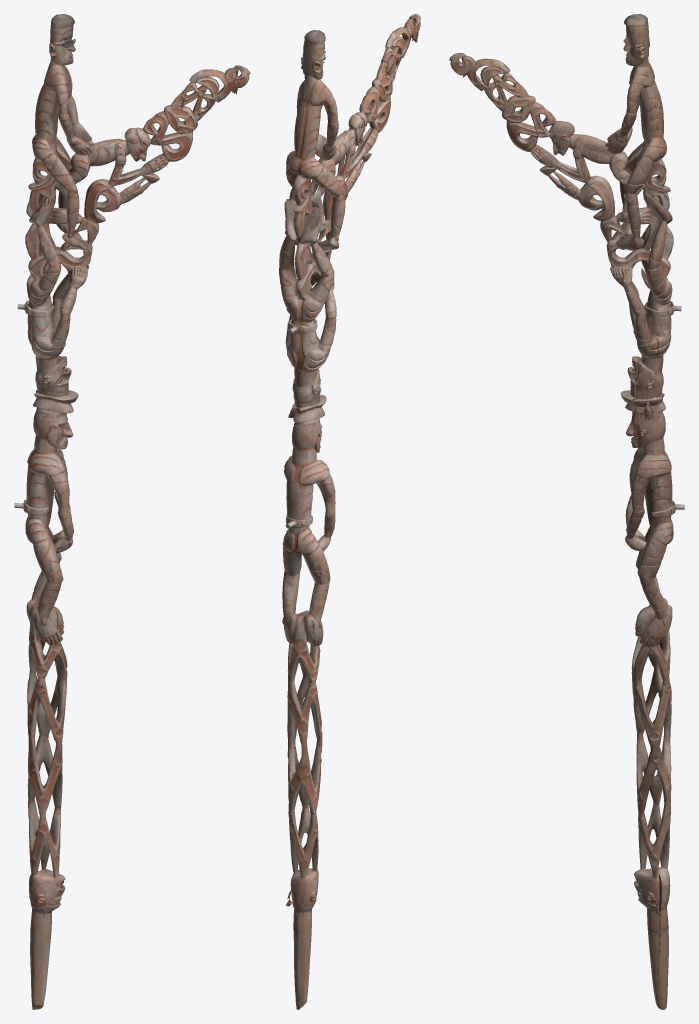
File: preview.glb
The picture shows the model from 3 angles, left to right: view 1: azimuth 90°, elevation 25°; view 2: azimuth 150°, elevation 25°; view 3: azimuth 270°, elevation 25°; orthographic projection. The views are drawn at different scales.
Parts seen in each view (by area): view 1: ADVIMG_1978_412_1251_BisPole02_12Mil_Master_n3d; view 2: ADVIMG_1978_412_1251_BisPole02_12Mil_Master_n3d; view 3: ADVIMG_1978_412_1251_BisPole02_12Mil_Master_n3d.
Boxes of the visible parts, box(x1,y1,x2,y2) form: ADVIMG_1978_412_1251_BisPole02_12Mil_Master_n3d: box(14, 14, 250, 1009); ADVIMG_1978_412_1251_BisPole02_12Mil_Master_n3d: box(279, 14, 420, 1009); ADVIMG_1978_412_1251_BisPole02_12Mil_Master_n3d: box(449, 14, 684, 1009).
Bounding box in the file's own units: 0.3217 × 5.78 × 1.24.
Materials: 1 (1 with a texture image).
